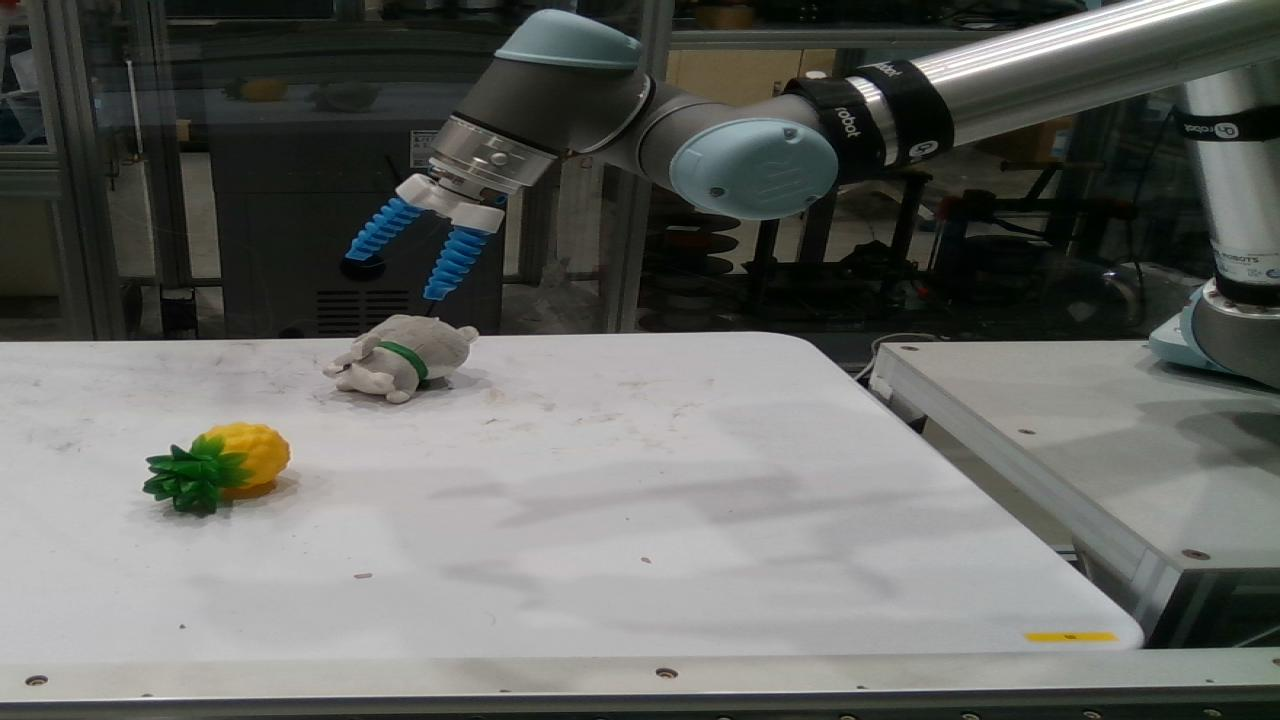UR5: (414, 1, 1264, 375)
gripper_left: (350, 198, 414, 260)
gripper_right: (428, 227, 484, 300)
target: (324, 316, 476, 404), (146, 424, 286, 514)
